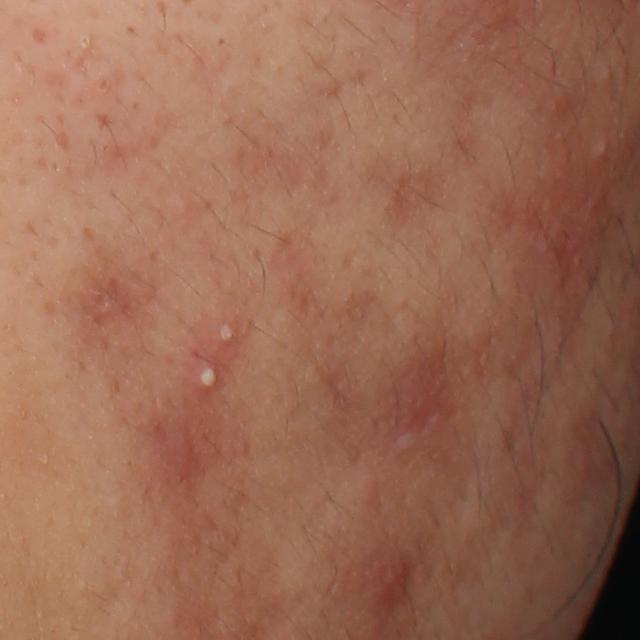comedo: (591, 130, 617, 156)
pustule: (186, 350, 228, 394), (207, 312, 242, 349)
